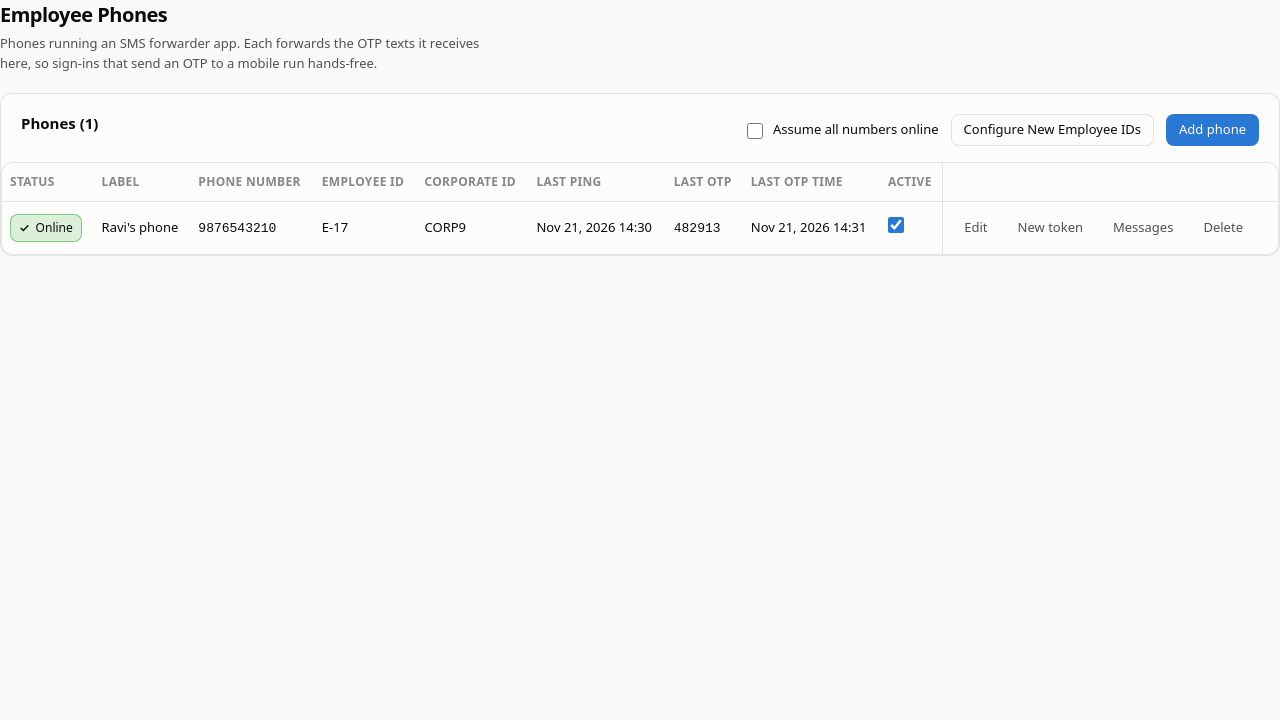
Test: EmployeePhones › shows the texts a phone forwarded
The image size is (1280, 720).
Expected: the text "Ravi's phone" is shown, [94,202,190,254]
Click the button "Messages": (1143, 228) [1100,212,1186,244]
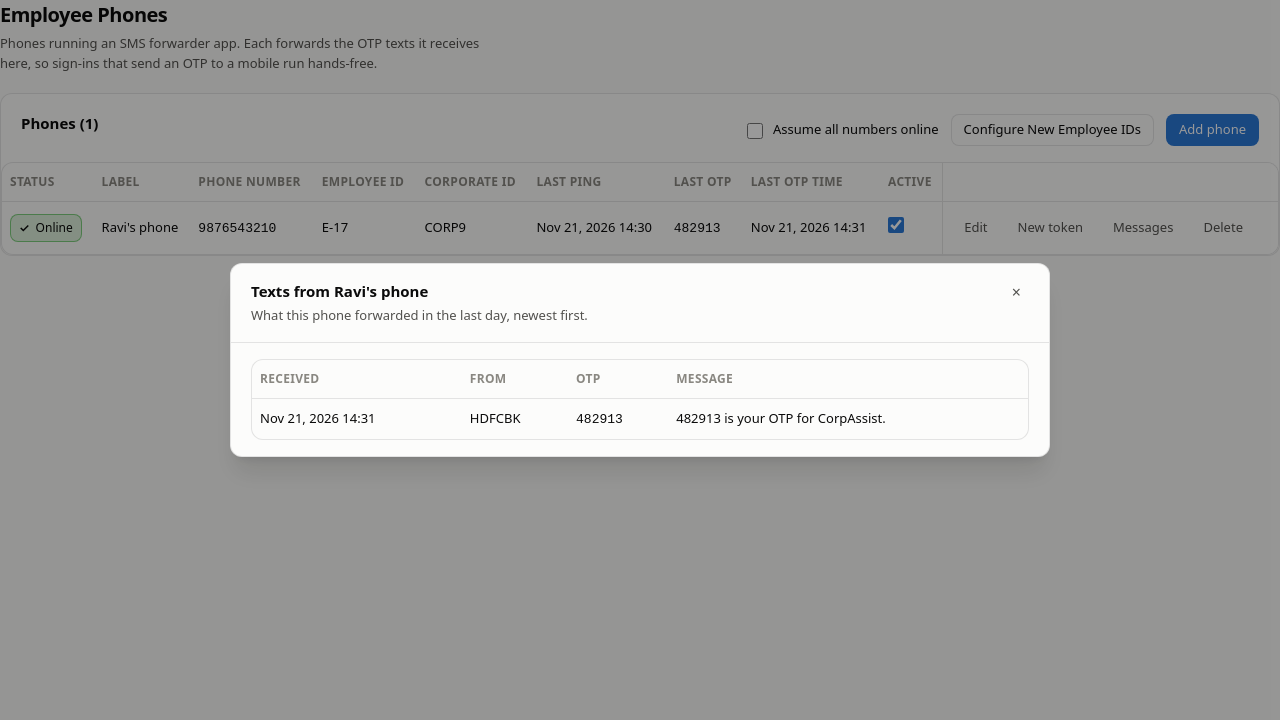
Expected: the text "482913 is your OTP for CorpAssist." is shown, [676,409,886,427]
